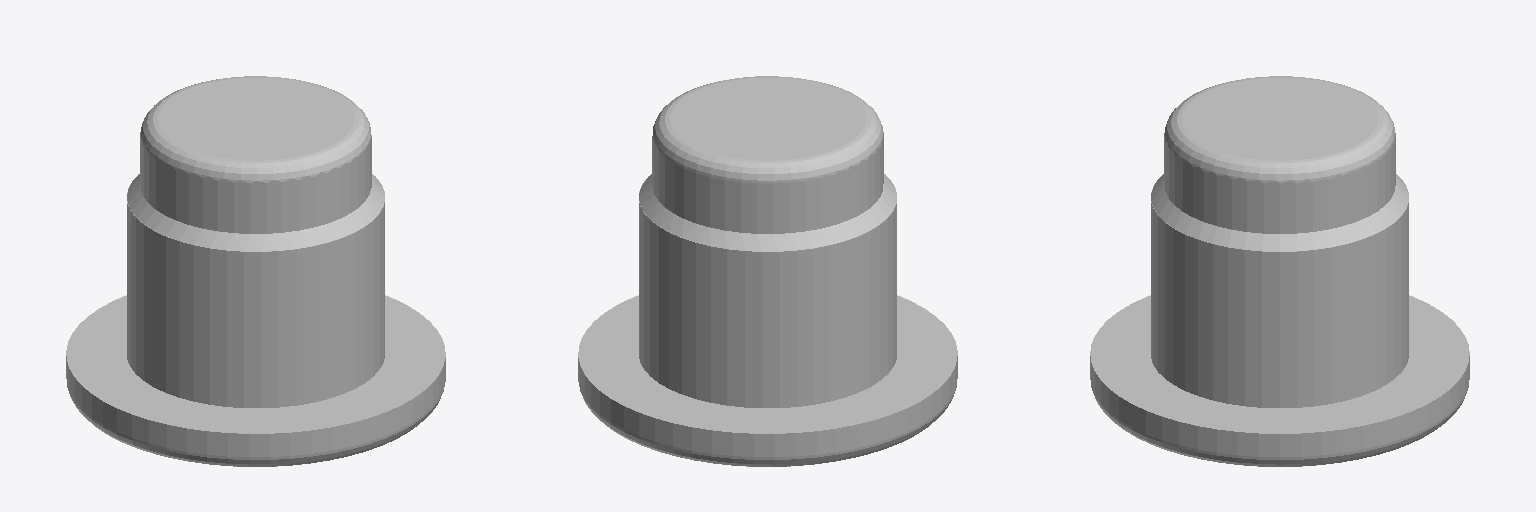
The model's file is Flutschraube.obj.
3 renders of one model, left to right at view 1: azimuth 30°, elevation 25°; view 2: azimuth 150°, elevation 25°; view 3: azimuth 270°, elevation 25°, orthographic.
Parts seen in each view (by area): view 1: Volumenkörper1; view 2: Volumenkörper1; view 3: Volumenkörper1.
Part boxes in pixels (bbox=[...]): Volumenkörper1: bbox=[66, 76, 445, 466]; Volumenkörper1: bbox=[578, 76, 957, 466]; Volumenkörper1: bbox=[1090, 76, 1469, 466].
Bounding box in the file's own units: 44 × 35 × 44.